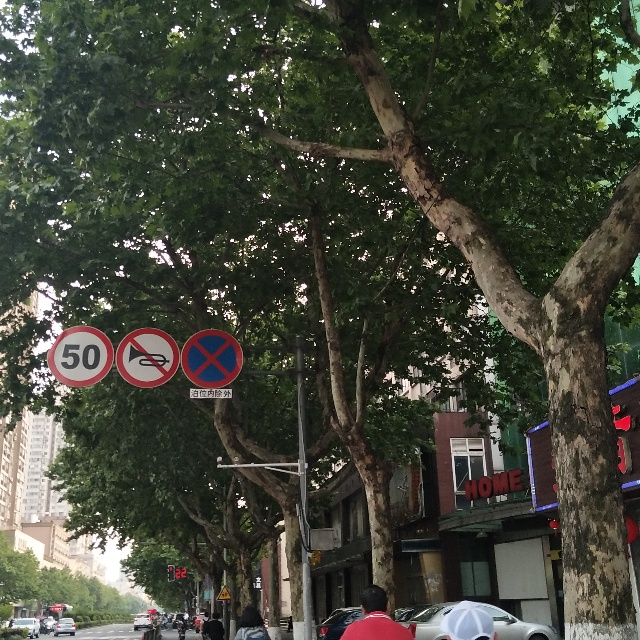nohonk: (115, 326, 181, 389)
stop: (182, 326, 244, 389)
